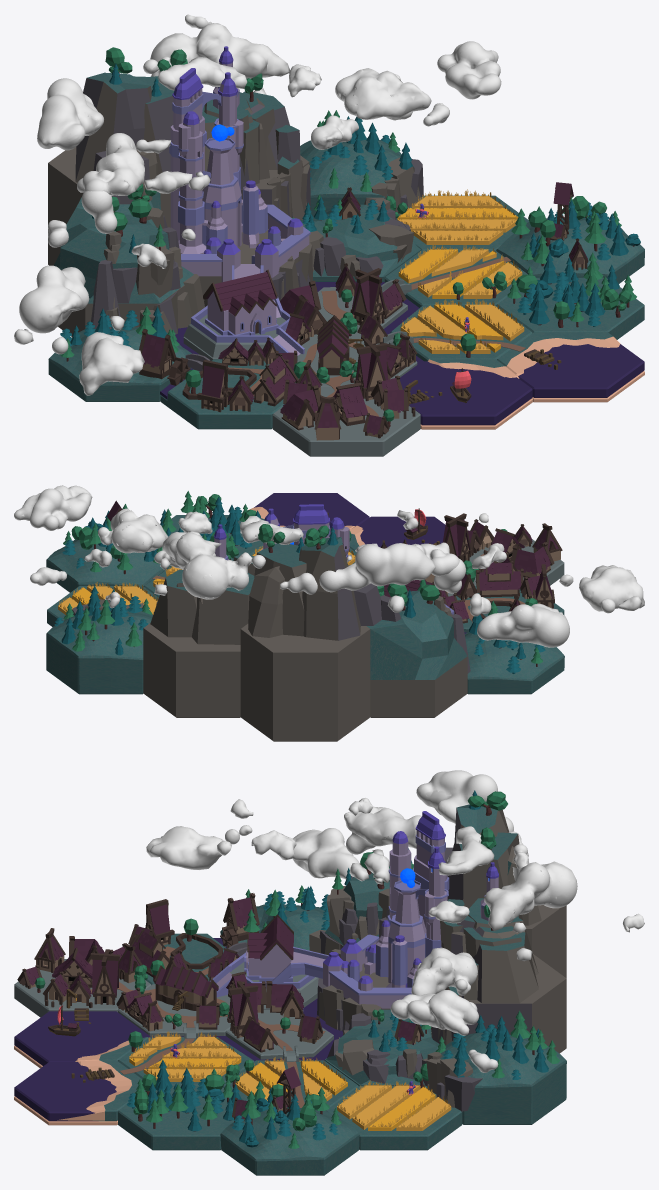
Rendered from Artjoms_Berjoza_Urok_10_Sketch_fab.fbx.
3 renders of one model, top to bottom at view 1: azimuth 30°, elevation 25°; view 2: azimuth 150°, elevation 25°; view 3: azimuth 270°, elevation 25°, orthographic. The views are drawn at different scales.
Parts seen in each view (by area): view 1: Mball.185, Rocks_h.009, Rock.004, Rocks_h.017, SEA, SEA.001, Field.002, Rocks_h, Field, FOREST, Field.001, lAND.017 (+50 smaller); view 2: Mball.185, Rocks_h.009, Rock.004, Hill.002, Rocks_h, Hill, Rock.001, Hill.001, FOREST.004, Mball.001, SEA.001, SEA (+22 smaller); view 3: Mball.185, Rock.004, Hill.002, Rocks_h.009, Hill.001, SEA, Field.002, SEA.001, lAND.016, Field, FOREST, FOREST.004 (+50 smaller).
Part boxes in pixels (x1,y1,x2,y2): Mball.185: [14, 14, 449, 395]; Rocks_h.009: [48, 72, 174, 265]; Rock.004: [202, 91, 310, 220]; Rocks_h.017: [91, 207, 204, 334]; SEA: [400, 361, 532, 425]; SEA.001: [518, 344, 644, 397]; Field.002: [397, 189, 518, 244]; Rocks_h: [53, 191, 193, 303]; Field: [400, 299, 524, 353]; FOREST: [507, 252, 636, 327]; Field.001: [398, 244, 522, 298]; lAND.017: [272, 386, 420, 456]; Mball.185: [30, 508, 644, 647]; Rocks_h.009: [240, 537, 370, 741]; Rock.004: [143, 553, 255, 717]; Hill.002: [46, 608, 152, 694]; Rocks_h: [367, 590, 467, 679]; Hill: [464, 632, 564, 694]; Rock.001: [370, 656, 467, 717]; Hill.001: [46, 537, 170, 592]; FOREST.004: [54, 586, 153, 655]; Mball.001: [14, 485, 92, 530]; SEA.001: [254, 493, 369, 526]; SEA: [359, 516, 445, 547]; Mball.185: [146, 770, 644, 1072]; Rock.004: [431, 898, 566, 1053]; Hill.002: [440, 1032, 566, 1124]; Rocks_h.009: [447, 804, 566, 977]; Hill.001: [220, 1108, 359, 1175]; SEA: [14, 1011, 150, 1065]; Field.002: [337, 1080, 451, 1130]; SEA.001: [14, 1062, 116, 1121]; lAND.016: [118, 1085, 233, 1150]; Field: [129, 1031, 241, 1081]; FOREST: [126, 1059, 241, 1131]; FOREST.004: [435, 1010, 560, 1079].
Size of what is drawn, in the model's own units: 494 by 162 by 456.
